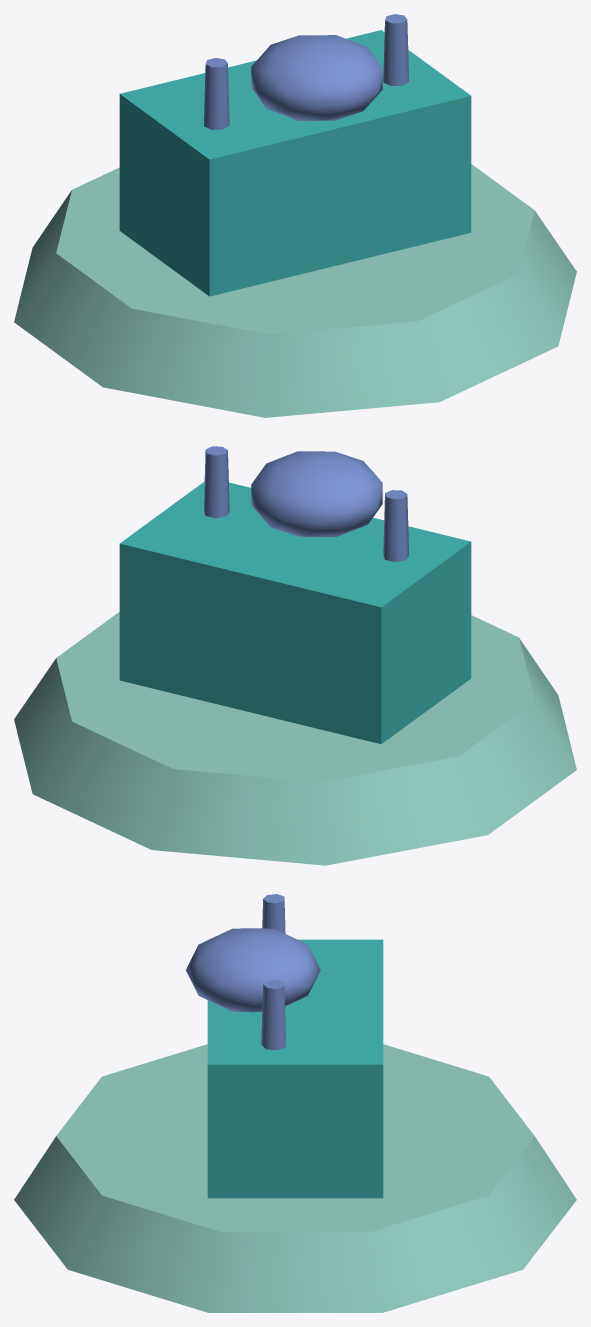
The model's file is sanctuary.glb.
3 renders of one model, top to bottom at view 1: azimuth 30°, elevation 25°; view 2: azimuth 150°, elevation 25°; view 3: azimuth 270°, elevation 25°, orthographic. The views are drawn at different scales.
Parts seen in each view (by area): view 1: base, altar, emblem, candle_-1, candle_1; view 2: base, altar, emblem, candle_1, candle_-1; view 3: base, altar, emblem, candle_1, candle_-1.
Boxes of the visible parts, x1,y1,x2,y2 form: base: (14, 164, 576, 417); altar: (119, 30, 471, 296); emblem: (251, 35, 382, 120); candle_-1: (204, 58, 229, 129); candle_1: (383, 14, 409, 85); base: (14, 612, 576, 865); altar: (119, 481, 471, 744); emblem: (251, 451, 382, 536); candle_1: (204, 446, 229, 518); candle_-1: (383, 490, 409, 561); base: (14, 1044, 576, 1312); altar: (207, 939, 383, 1198); emblem: (186, 928, 320, 1012); candle_1: (261, 979, 285, 1050); candle_-1: (262, 894, 285, 933).
Size of what is drawn, in the model's own units: 3.8 by 2.06 by 4.
